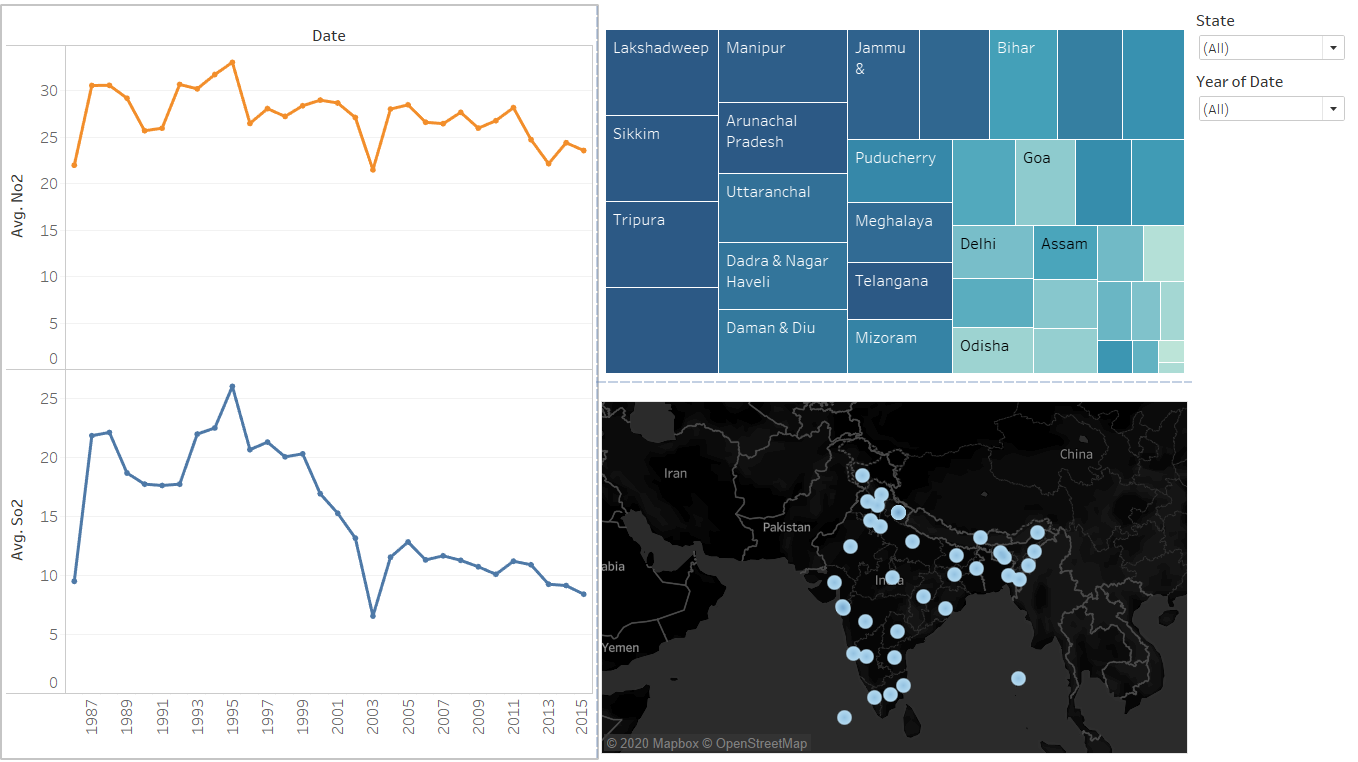

The page's visual inventory and layout, read from the dashboard file:
{"tool":"tableau","page":{"name":"Dashboard 1","canvas":[1366,768],"ordinal":0},"visuals":[{"type":"worksheet","title":"Sheet 1","mark":"Automatic","rows":["no2","so2"],"cols":["date"],"box":[8,8,595,752]},{"type":"worksheet","title":"Sheet 2","mark":"Automatic","box":[603,8,595,376]},{"type":"filter","title":"Sheet 2","param":"[federated.0zj1o8w0xre8on1g9h11r0649z5r].[none:state:nk]","box":[1198,8,160,52]},{"type":"filter","title":"Sheet 1","param":"[federated.0zj1o8w0xre8on1g9h11r0649z5r].[yr:date:ok]","box":[1198,60,160,52]},{"type":"worksheet","title":"Sheet 4","mark":"Heatmap","box":[603,384,595,376]}]}

Visuals, with their boxes in screenshot pixels (x1, y1, x2, y2), scaled from the page's 1366x768 canvas onto the 1358x762 screenshot:
"Sheet 1" worksheet: BBox(8, 8, 599, 754)
"Sheet 2" worksheet: BBox(599, 8, 1191, 381)
"Sheet 2" filter: BBox(1191, 8, 1350, 60)
"Sheet 1" filter: BBox(1191, 60, 1350, 111)
"Sheet 4" worksheet (Heatmap marks): BBox(599, 381, 1191, 754)
